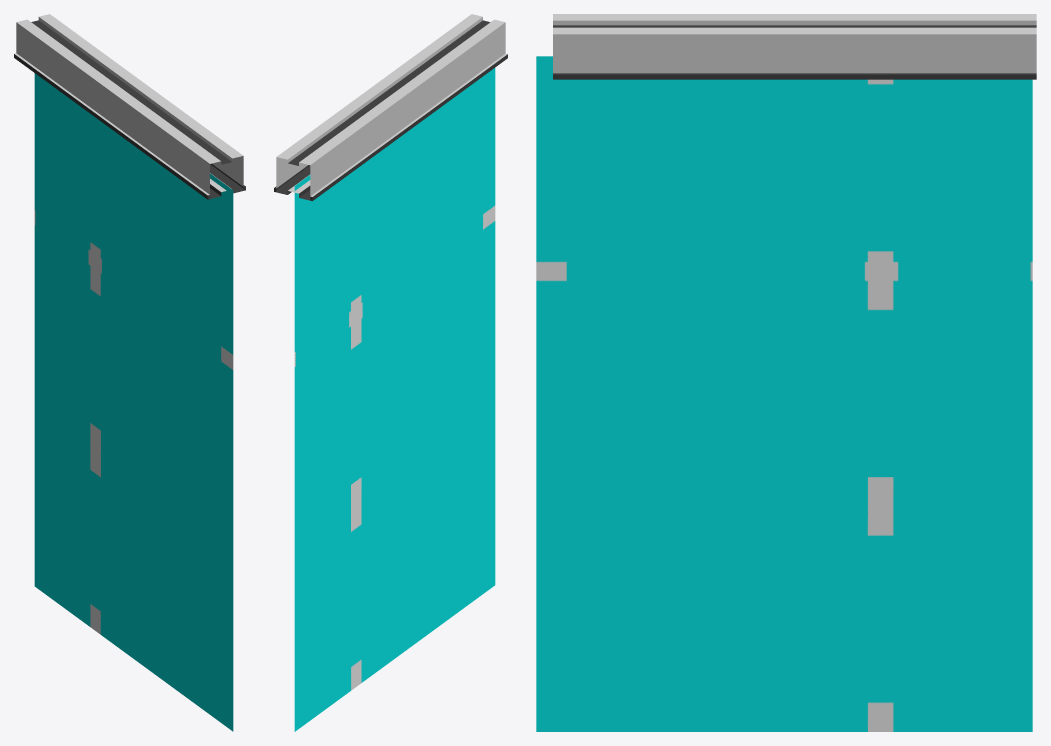
The model's file is ModDiv_Panel_Tall.fbx.
The picture shows the model from 3 angles, left to right: view 1: azimuth 30°, elevation 25°; view 2: azimuth 150°, elevation 25°; view 3: azimuth 270°, elevation 25°; orthographic projection. The views are drawn at different scales.
Visible parts, largest first — view 1: Tall_Holo; view 2: Tall_Holo; view 3: Tall_Holo.
Boxes of the visible parts, x1,y1,x2,y2 form: Tall_Holo: (14,14,245,731); Tall_Holo: (274,14,507,731); Tall_Holo: (536,14,1036,731).
Bounding box in the file's own units: 34.15 × 485 × 310.
3 materials, 1 textured.
